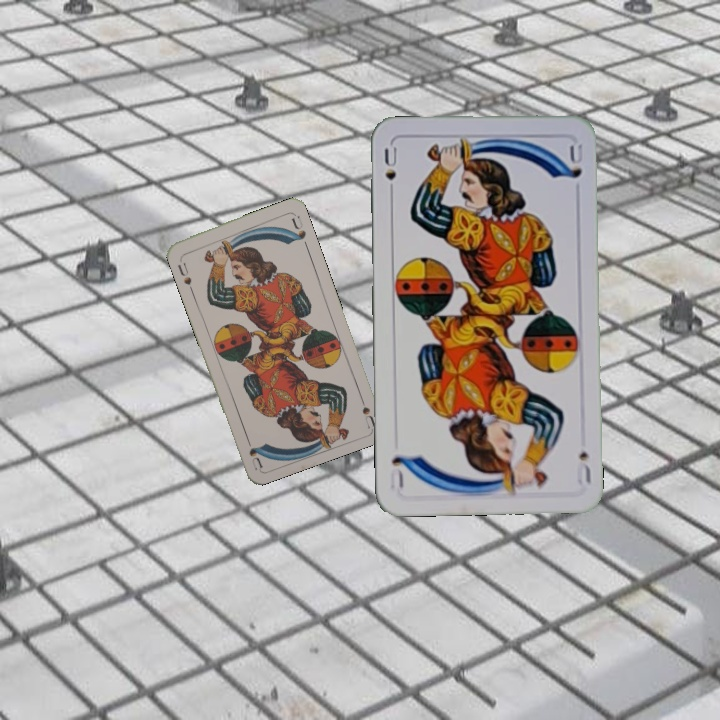SU: (380, 142, 400, 200), (355, 389, 377, 429), (572, 447, 594, 487), (173, 253, 194, 288)
